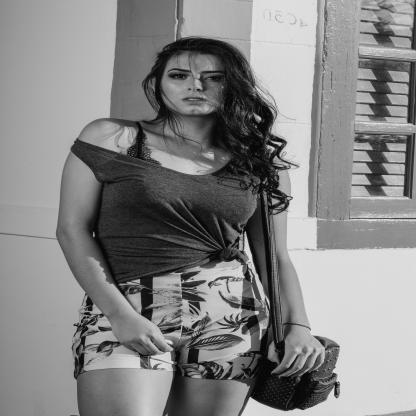Eye: (168, 74, 189, 80), (203, 76, 224, 82)
Mouth: (181, 96, 207, 105)
Nose: (186, 77, 203, 92)
